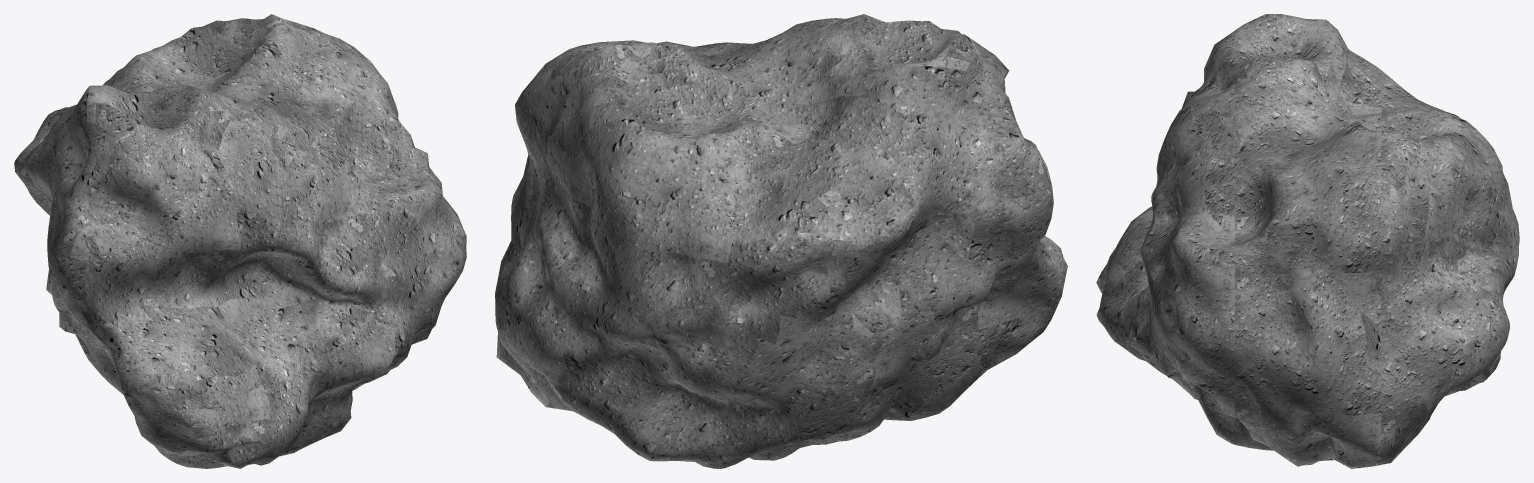
Rendered from Asteroid2.obj.
3 views of the same model, side by side, from view 1: azimuth 30°, elevation 25°; view 2: azimuth 150°, elevation 25°; view 3: azimuth 270°, elevation 25° (orthographic). The views are drawn at different scales.
Parts seen in each view (by area): view 1: default02; view 2: default02; view 3: default02.
Part boxes in pixels (<box>): default02: <box>14,14,466,468</box>; default02: <box>495,14,1067,468</box>; default02: <box>1096,14,1519,468</box>.
Bounding box in the file's own units: 61.5 × 54.28 × 57.78.
Materials: 1 (1 with a texture image).
